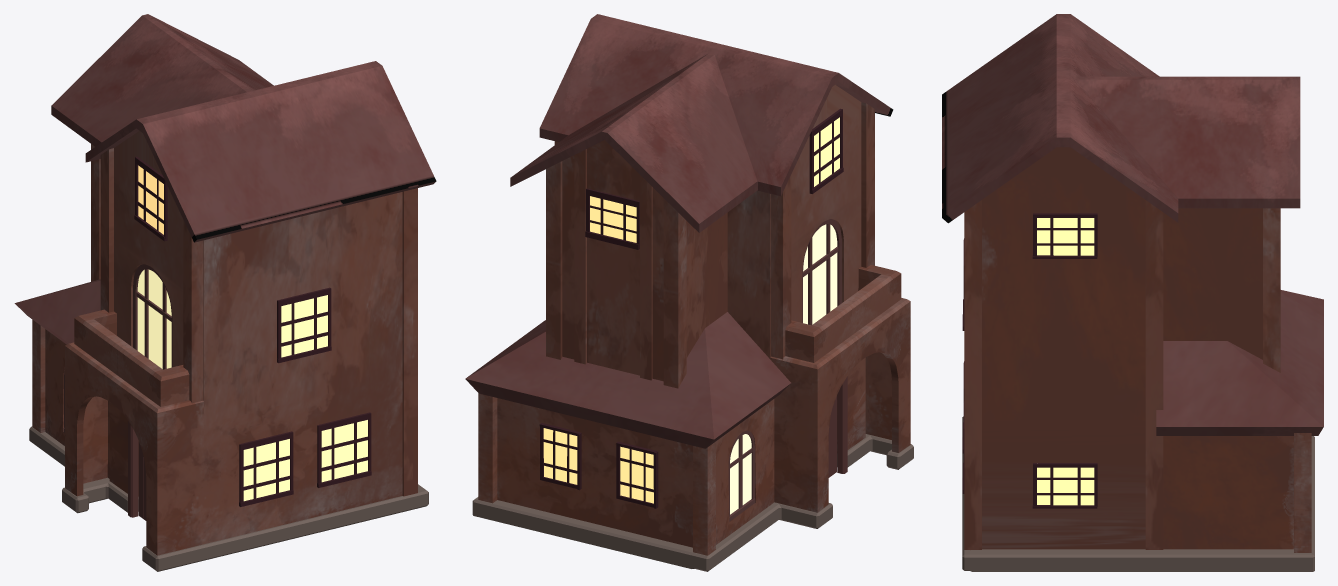
File: house_brick_3f_1x1.glb
3 renders of one model, left to right at view 1: azimuth 30°, elevation 25°; view 2: azimuth 150°, elevation 25°; view 3: azimuth 270°, elevation 25°, orthographic. The views are drawn at different scales.
Visible parts, largest first — view 1: 3F1to1; view 2: 3F1to1; view 3: 3F1to1.
Part boxes in pixels (x1,y1,x2,y2): 3F1to1: [14, 14, 436, 571]; 3F1to1: [465, 14, 913, 571]; 3F1to1: [942, 14, 1323, 571].
Size of the model in its own units: 8.43 by 11.96 by 9.56.
6 materials, 2 textured.
